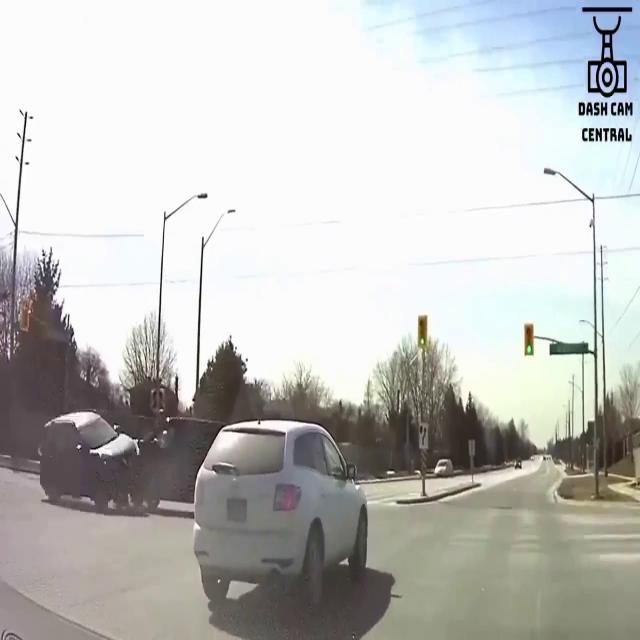accident: (38, 404, 194, 516)
